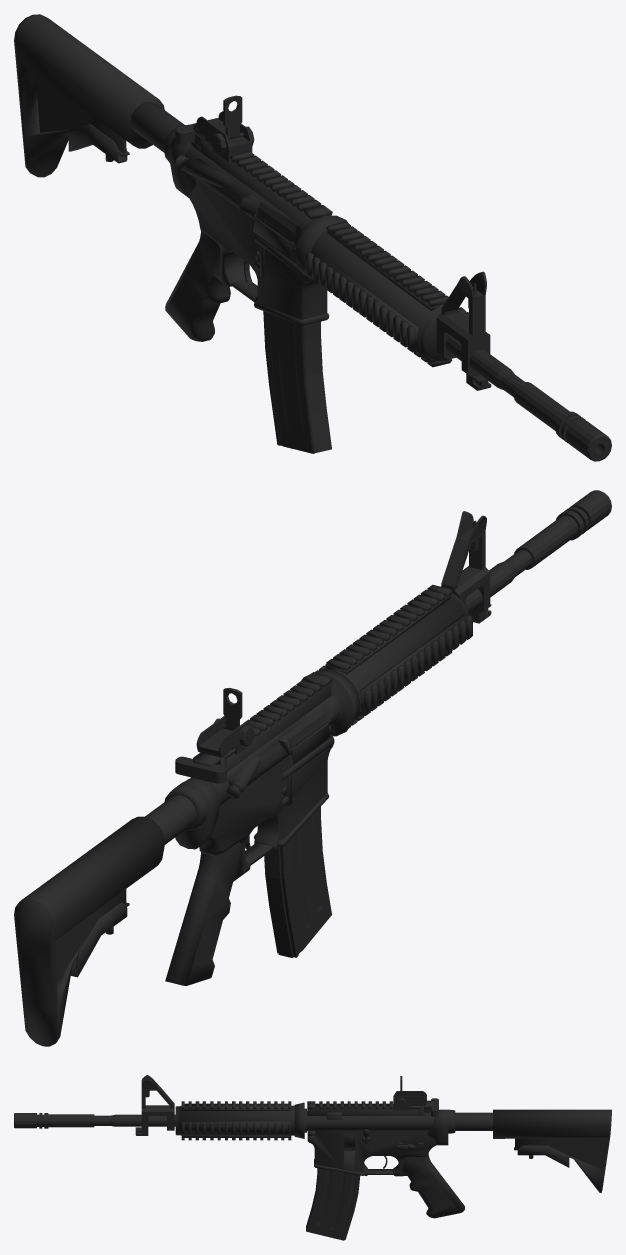
3 renders of one model, top to bottom at view 1: azimuth 30°, elevation 25°; view 2: azimuth 150°, elevation 25°; view 3: azimuth 270°, elevation 25°, orthographic. The views are drawn at different scales.
Visible parts, largest first — view 1: m4a1; view 2: m4a1; view 3: m4a1.
Part boxes in pixels (x1,y1,x2,y2): m4a1: (14, 14, 611, 461); m4a1: (14, 490, 611, 1046); m4a1: (14, 1075, 611, 1240).
Size of the model in its own units: 0.055 by 0.2491 by 0.838.
Materials: 5 (5 with a texture image).
